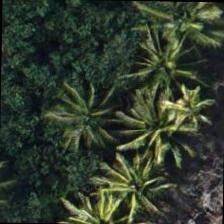Kelapa_Sawit: (124, 18, 216, 110), (118, 90, 210, 182), (144, 1, 223, 68)
